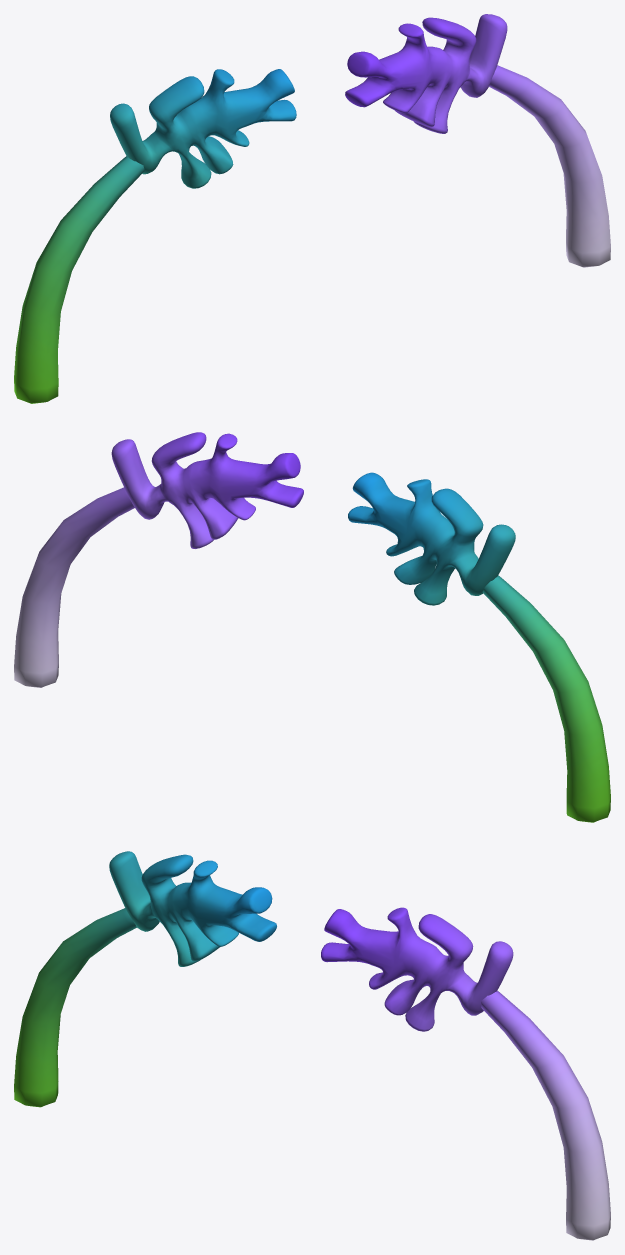
Rendered from Tree.fbx.
The picture shows the model from 3 angles, top to bottom: view 1: azimuth 30°, elevation 25°; view 2: azimuth 150°, elevation 25°; view 3: azimuth 330°, elevation 25°; orthographic projection.
Visible parts, largest first — view 1: Plane, Plane.002, Cube, Cube.002; view 2: Plane.002, Plane, Cube, Cube.002; view 3: Plane.002, Plane, Cube.002, Cube.
Part boxes in pixels (x1=…): Plane: x1=110, y1=69, x2=296, y2=188; Plane.002: x1=345, y1=14, x2=507, y2=133; Cube: x1=14, y1=156, x2=144, y2=403; Cube.002: x1=489, y1=65, x2=610, y2=267; Plane.002: x1=111, y1=432, x2=303, y2=548; Plane: x1=348, y1=472, x2=515, y2=605; Cube: x1=482, y1=575, x2=610, y2=822; Cube.002: x1=14, y1=487, x2=134, y2=687; Plane.002: x1=321, y1=907, x2=513, y2=1031; Plane: x1=109, y1=851, x2=276, y2=966; Cube.002: x1=481, y1=991, x2=610, y2=1240; Cube: x1=14, y1=908, x2=136, y2=1107.
Bounding box in the file's own units: 3885 × 1799 × 393.
